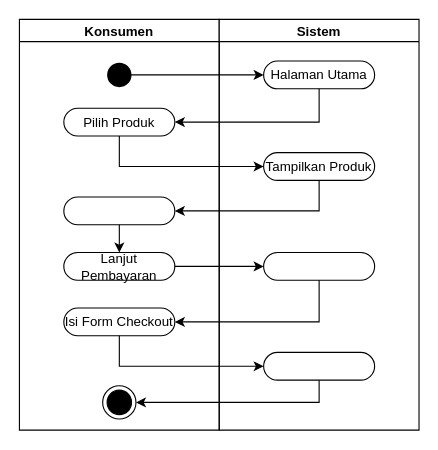
This 438x450 diagram has some shape labels left out. Here are the shapes that lost their labels. From the top down, the centre of each, then its label:
pixel 119 210: Masukkan Keranjang
pixel 319 265: Form Checkout
pixel 319 365: Checkout
